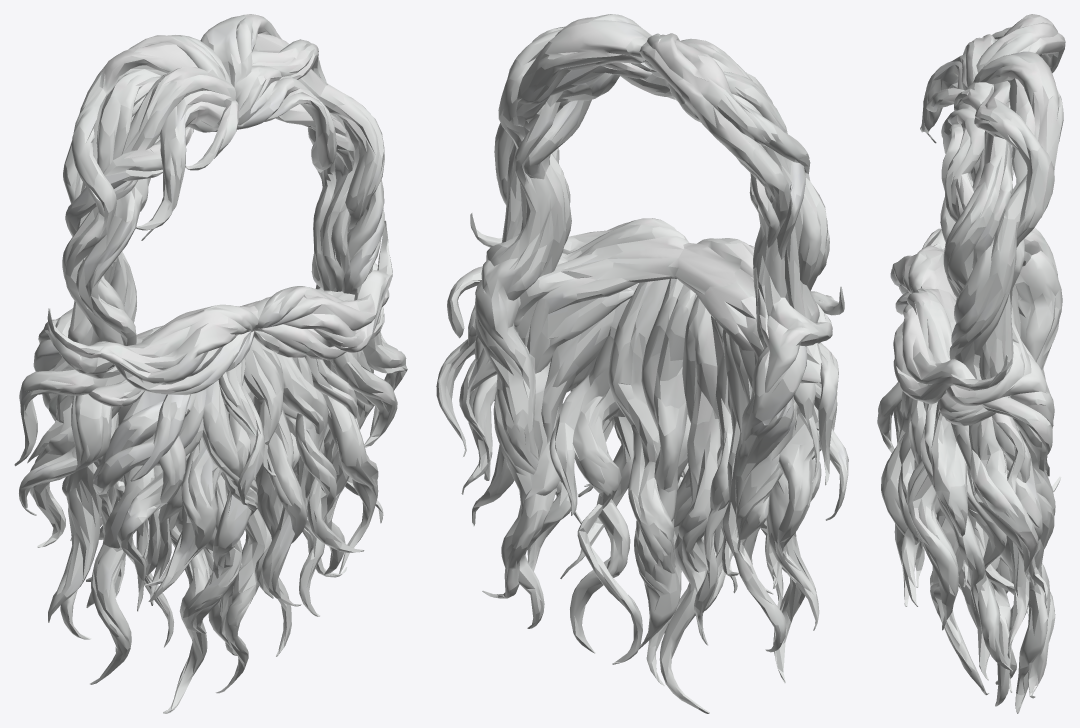
Rendered from santa-beard.glb.
The picture shows the model from 3 angles, left to right: view 1: azimuth 30°, elevation 25°; view 2: azimuth 150°, elevation 25°; view 3: azimuth 270°, elevation 25°; orthographic projection. The views are drawn at different scales.
Bounding box in the file's own units: 3.48 × 5.7 × 1.45.
1 material, 1 textured.
